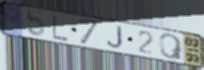2: (137, 30, 155, 56)
5: (24, 9, 48, 38)
7: (78, 18, 100, 47)
J: (106, 25, 124, 50)
L: (52, 13, 70, 43)
Q: (158, 33, 184, 62)
